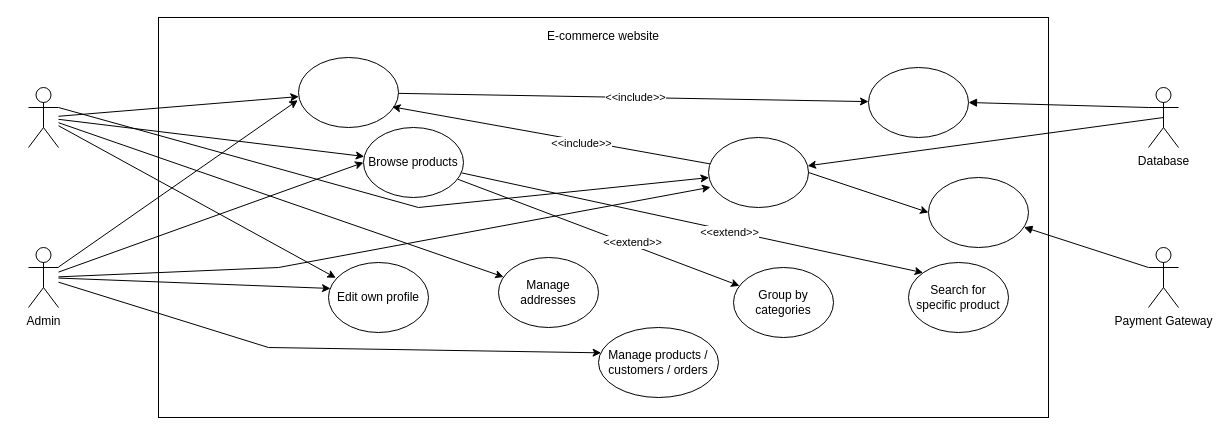
This 1229x435 diagram has some shape labels left out. The shapes that lost their labels are listed below. From the top down, each one's centre as x and y in pixels, then its label:
the point at 348,92: Authentification
the point at 918,102: Verify informations
the point at 43,117: Customer
the point at 758,172: Add products to cart
the point at 978,212: Checkout
